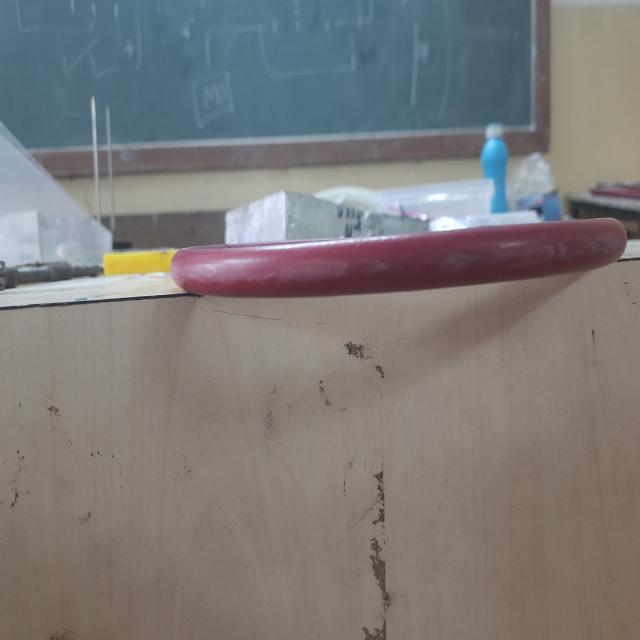daire: (188, 225, 614, 288)
